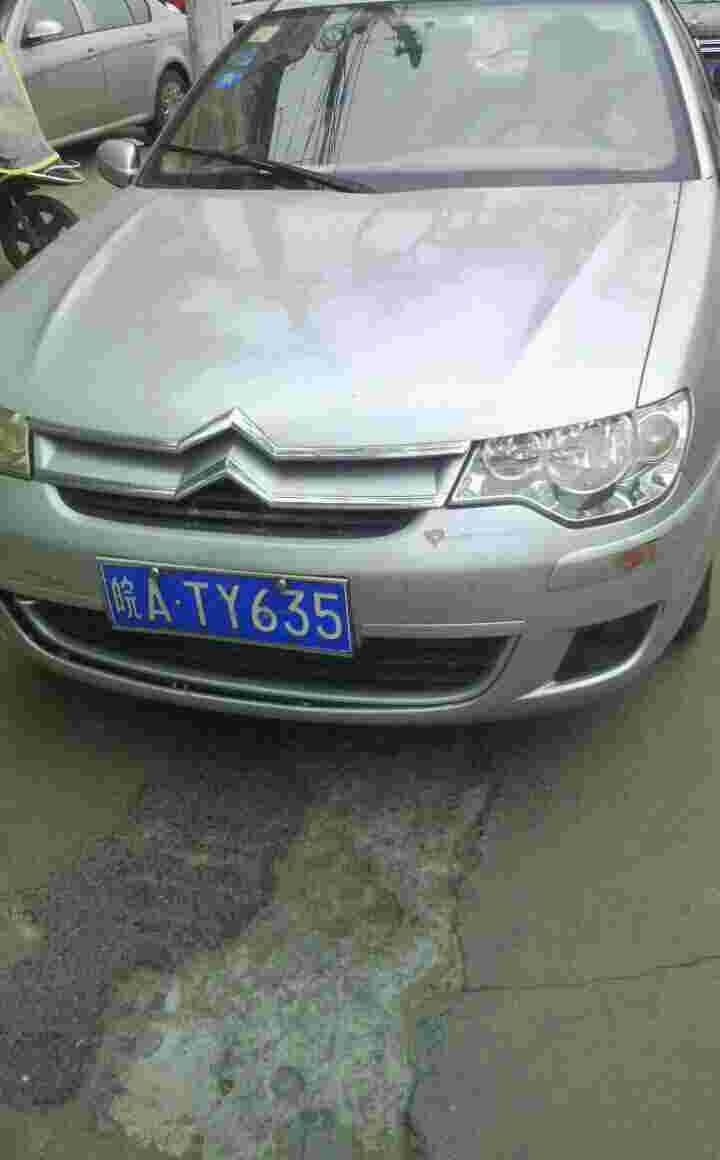license_plate: (108, 562, 348, 657)
